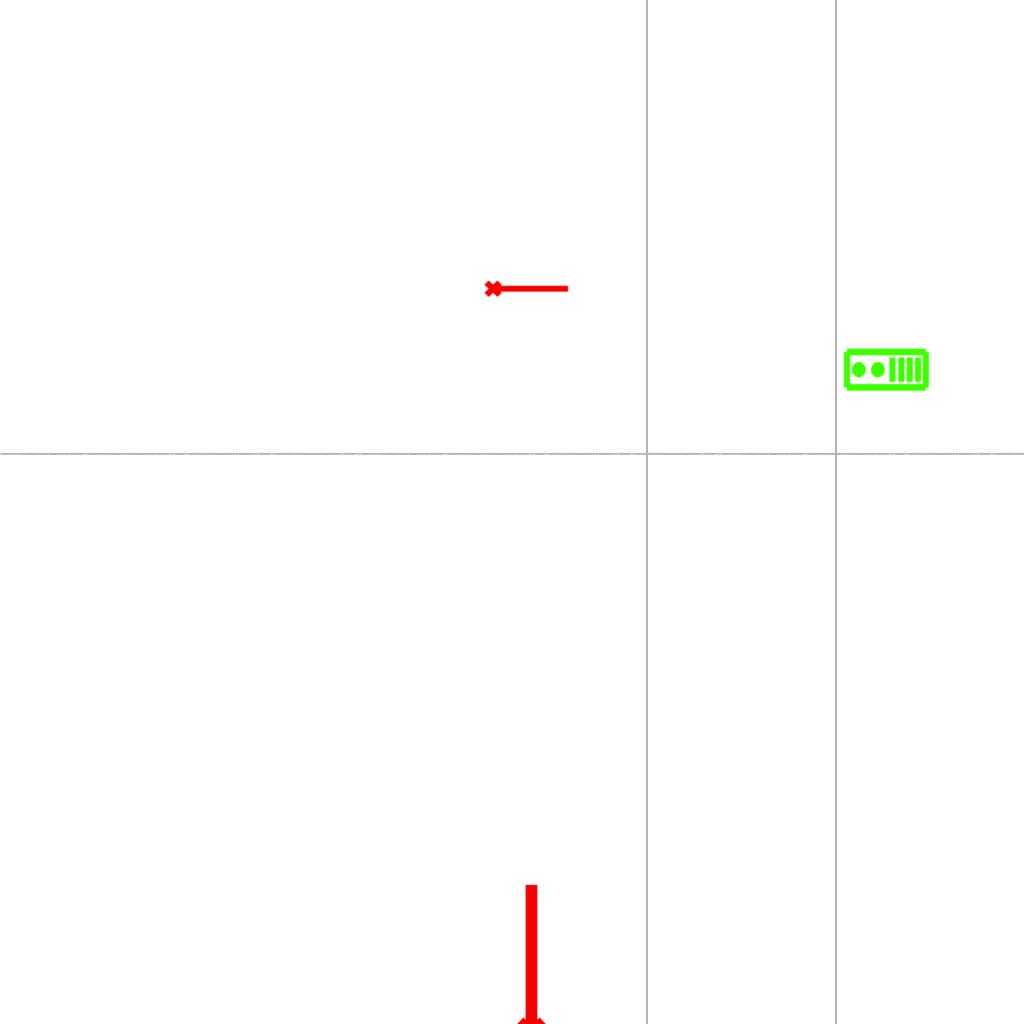ASR_Ansaugoeffnung: (506, 879, 552, 1024), (483, 276, 571, 299)
Gegensprechanlage_mit_Video: (842, 347, 930, 394)
